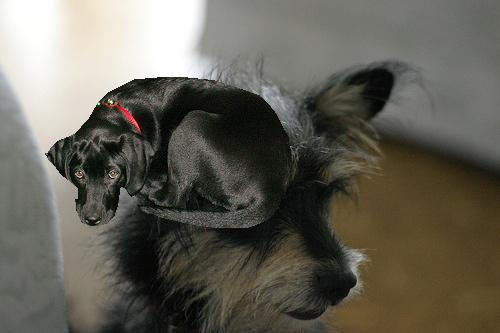tampered: (46, 78, 292, 228)
